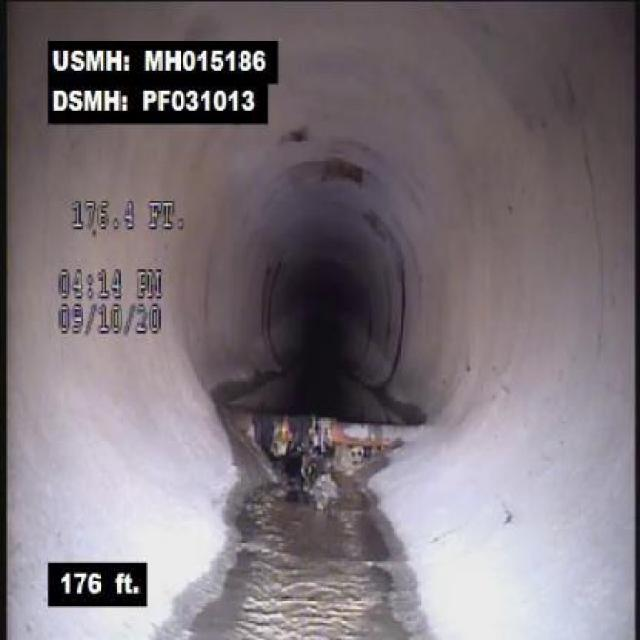Crack: (539, 55, 626, 383)
Utility intrusion: (200, 397, 445, 475)
